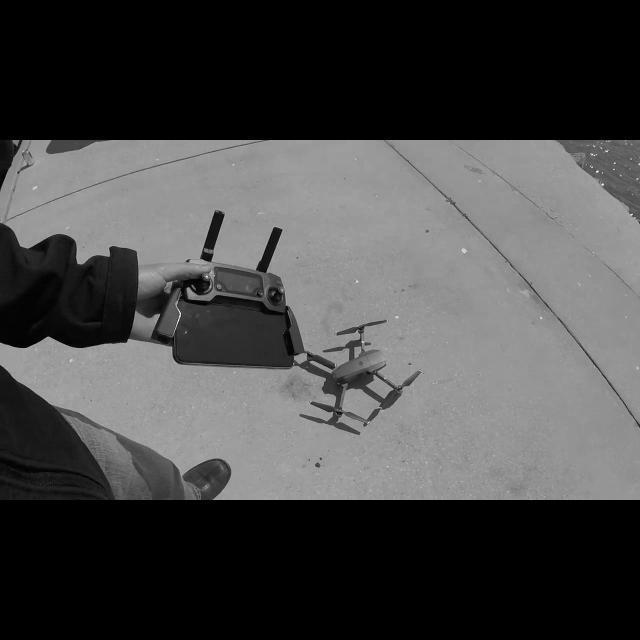Drons: (300, 316, 420, 426)
